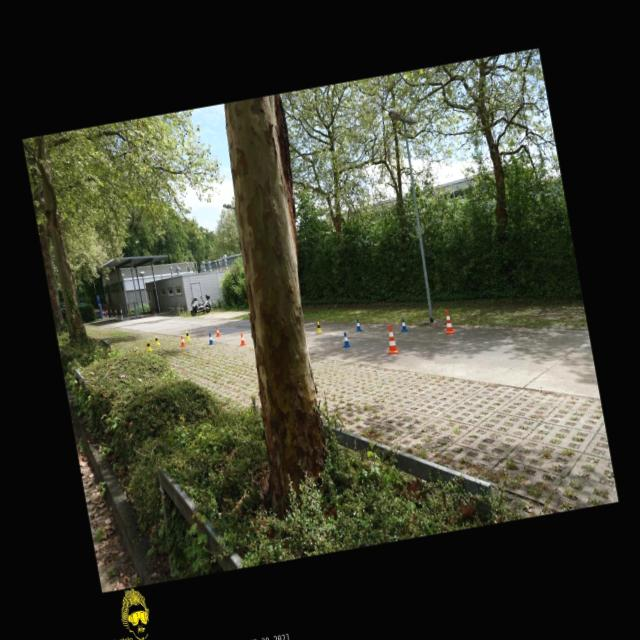blue_cone: (340, 331, 351, 348), (399, 317, 408, 332), (354, 318, 362, 331), (206, 332, 214, 344)
large_orange_cone: (384, 325, 398, 354), (442, 308, 454, 334)
orange_cone: (238, 332, 245, 346), (178, 335, 186, 347), (214, 326, 221, 336)
yellow_cone: (144, 339, 152, 351), (315, 320, 322, 333), (153, 334, 159, 346), (184, 329, 190, 340)
